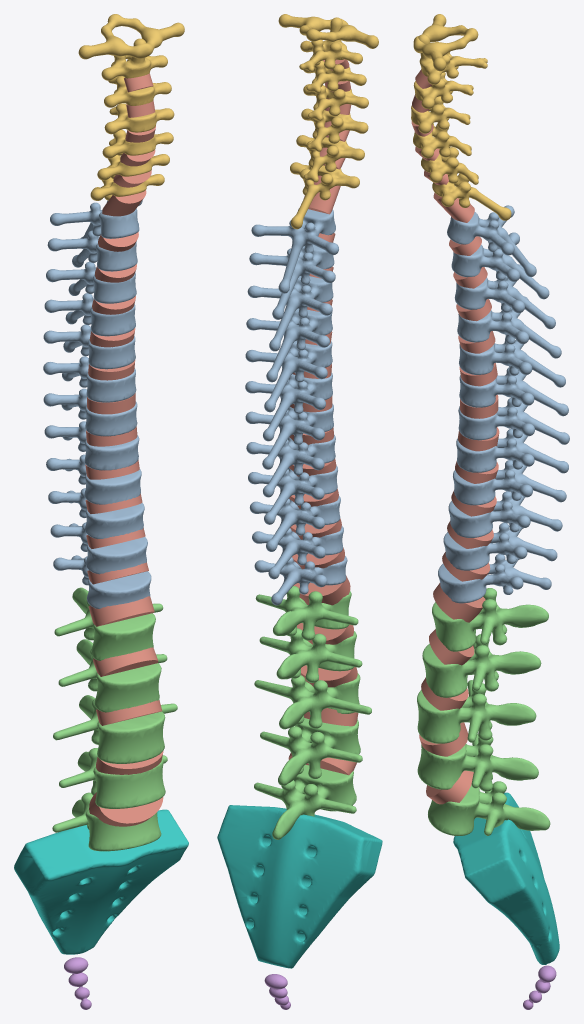
File: esqueleto-columna.glb
3 views of the same model, side by side, from view 1: azimuth 30°, elevation 25°; view 2: azimuth 150°, elevation 25°; view 3: azimuth 270°, elevation 25° (orthographic). The views are drawn at different scales.
Visible parts, largest first — view 1: sacrum, L03, L02, L04, L01, L05, C01, T12, T11, T10, T09, T08 (+31 smaller); view 2: sacrum, L04, L05, L03, L02, L01, T01, T04, T05, T03, T06, T07 (+22 smaller); view 3: sacrum, L03, L04, L05, L02, L01, T11, T12, T10, T09, T08, T07 (+31 smaller).
Boxes of the visible parts, <box> form: sacrum: <box>14,809,188,954</box>; L03: <box>53,695,177,763</box>; L02: <box>58,639,167,712</box>; L04: <box>59,748,167,808</box>; L01: <box>54,587,163,660</box>; L05: <box>52,792,161,851</box>; C01: <box>78,14,184,59</box>; T12: <box>53,555,151,608</box>; T11: <box>50,522,147,574</box>; T10: <box>48,488,144,538</box>; T09: <box>46,454,141,504</box>; T08: <box>44,421,139,470</box>; sacrum: <box>217,805,382,968</box>; L04: <box>260,718,362,785</box>; L05: <box>254,764,356,839</box>; L03: <box>254,673,371,729</box>; L02: <box>259,628,362,682</box>; L01: <box>255,586,358,640</box>; T01: <box>251,209,338,293</box>; T04: <box>246,308,332,382</box>; T05: <box>245,341,332,412</box>; T03: <box>247,276,333,351</box>; T06: <box>245,372,332,441</box>; T07: <box>245,403,333,469</box>; sacrum: <box>453,792,559,964</box>; L03: <box>417,680,536,743</box>; L04: <box>417,734,538,791</box>; L05: <box>428,781,550,835</box>; L02: <box>422,634,541,697</box>; L01: <box>432,588,548,651</box>; T11: <box>443,523,557,570</box>; T12: <box>438,554,551,603</box>; T10: <box>448,491,562,537</box>; T09: <box>453,460,566,505</box>; T08: <box>456,429,568,473</box>; T07: <box>458,398,569,444</box>.
Bounding box in the file's own units: 0.1138 × 0.7333 × 0.1076.
